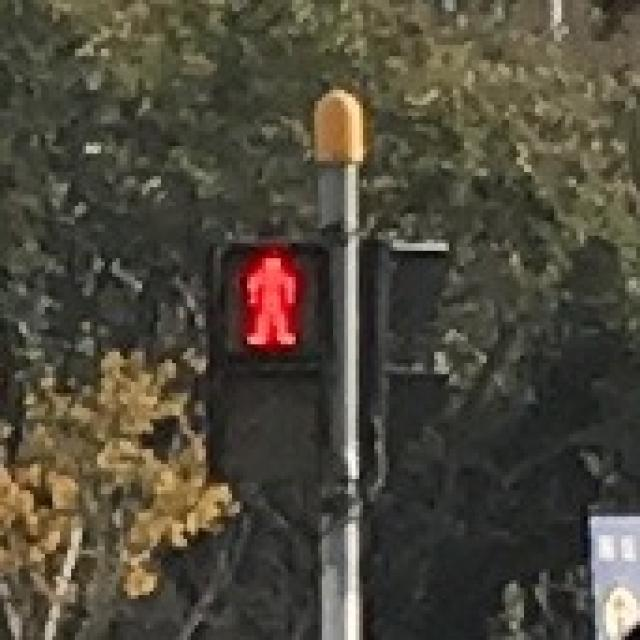red_light: (217, 239, 318, 352)
